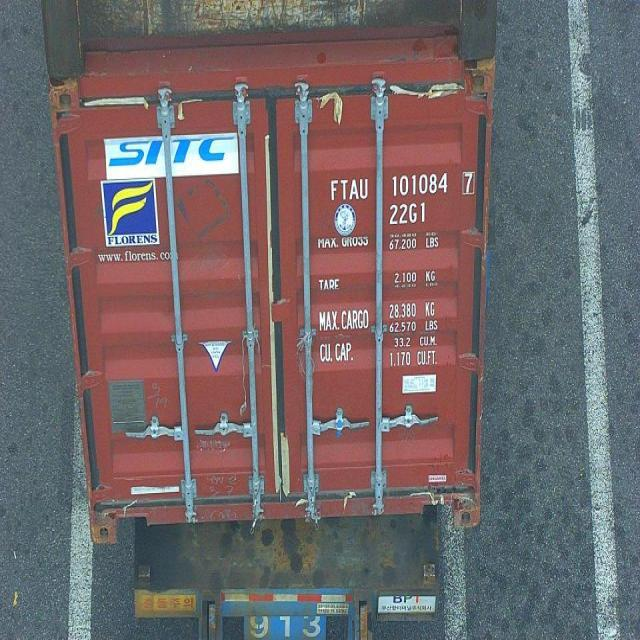ISO: (388, 198, 431, 224)
container_number: (328, 170, 472, 194)
